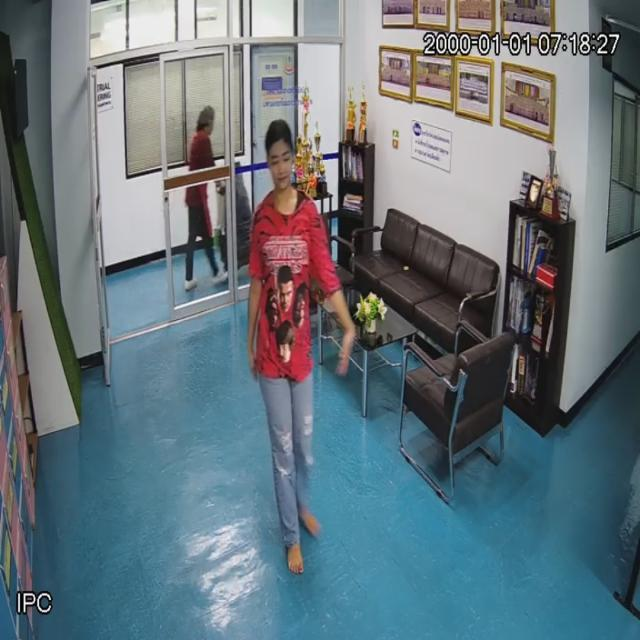normal: (247, 117, 334, 556)
